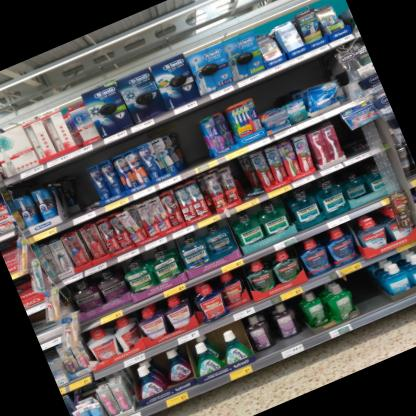empty_space: (51, 166, 103, 227), (169, 115, 215, 176), (343, 267, 387, 324)
